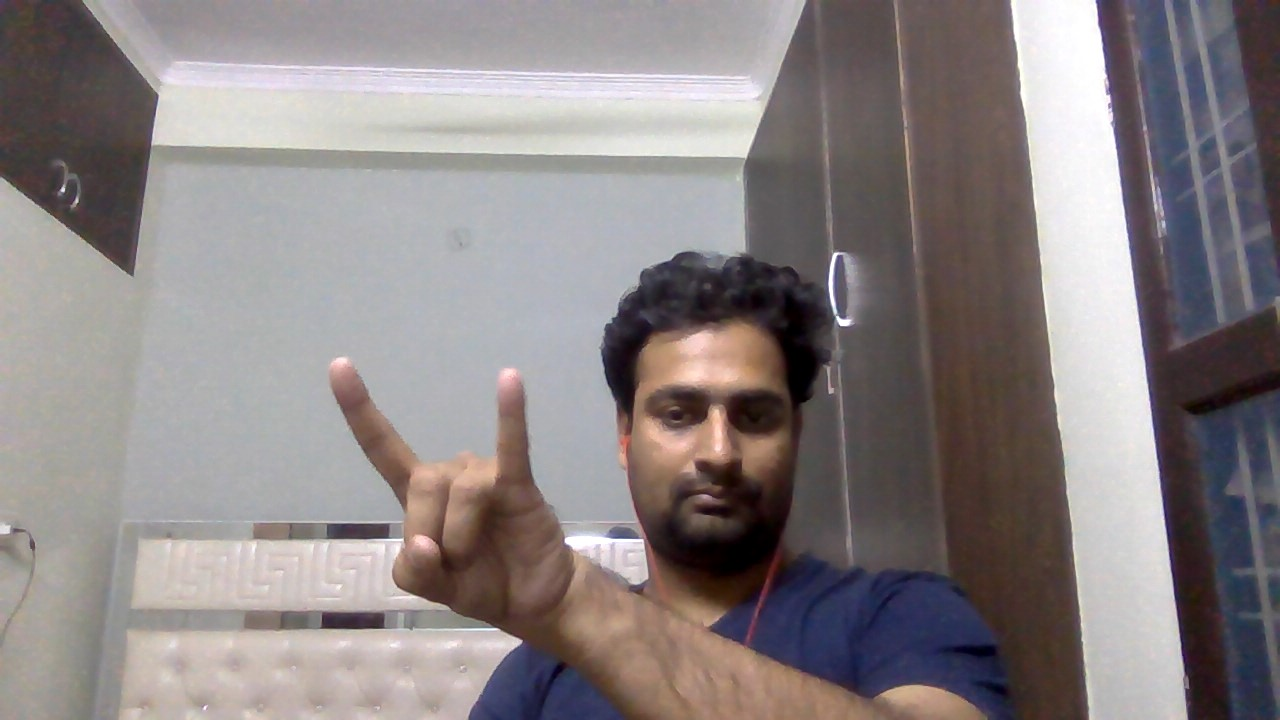Select All: (313, 339, 580, 639)
